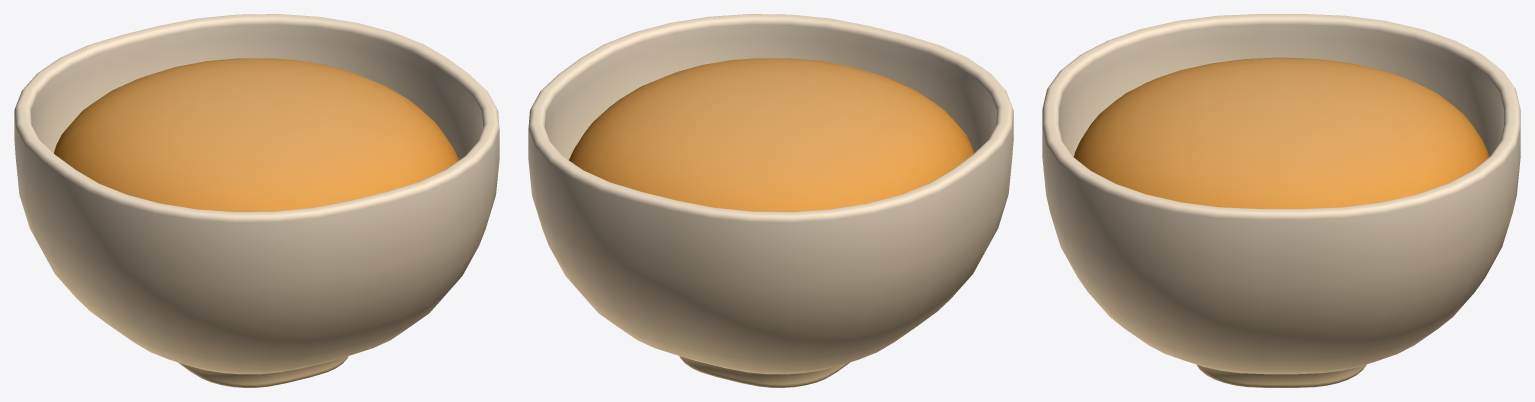
The model's file is Bread_Dough_Bowl.fbx.
3 views of the same model, side by side, from view 1: azimuth 30°, elevation 25°; view 2: azimuth 150°, elevation 25°; view 3: azimuth 270°, elevation 25° (orthographic).
Parts seen in each view (by area): view 1: Bread_Dough_Bowl; view 2: Bread_Dough_Bowl; view 3: Bread_Dough_Bowl.
Boxes of the visible parts, left/top/right/bottom form: Bread_Dough_Bowl: left=14, top=14, right=499, bottom=387; Bread_Dough_Bowl: left=528, top=14, right=1013, bottom=387; Bread_Dough_Bowl: left=1042, top=14, right=1520, bottom=387.
Size of the model in its own units: 32.71 by 18.93 by 32.71.
